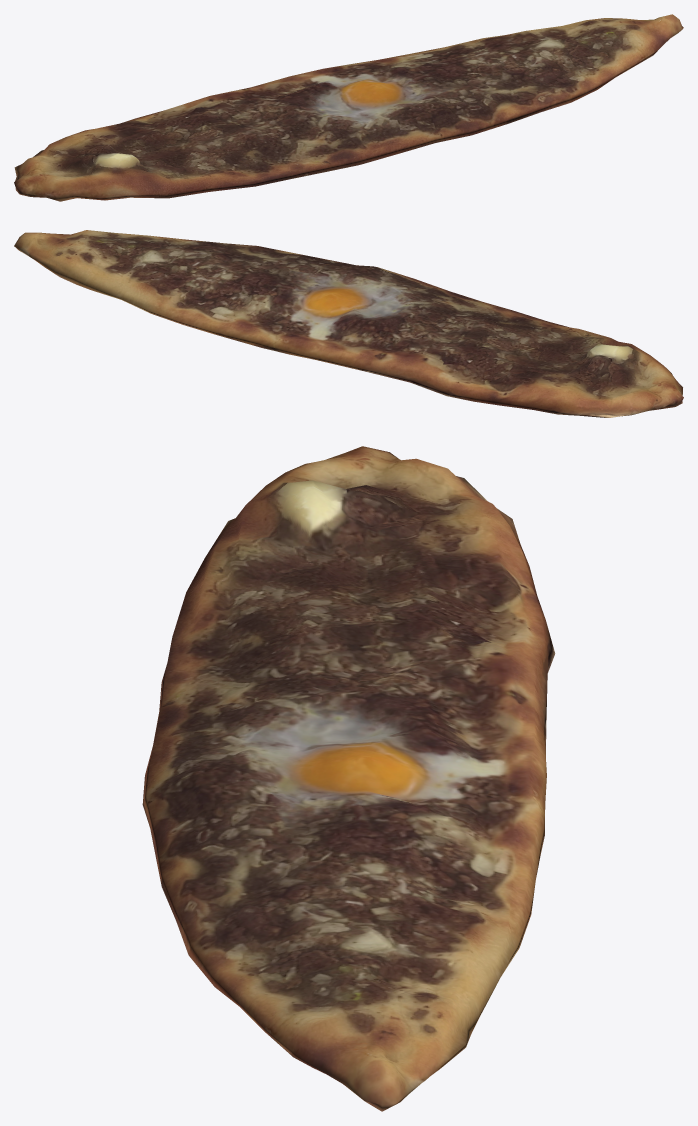
The model's file is pide_turkish_pizza_kymal (1).glb.
3 views of the same model, one above another, from view 1: azimuth 30°, elevation 25°; view 2: azimuth 150°, elevation 25°; view 3: azimuth 270°, elevation 25° (orthographic). The views are drawn at different scales.
Parts seen in each view (by area): view 1: Object_2; view 2: Object_2; view 3: Object_2.
Boxes of the visible parts, x1=… form: Object_2: x1=14, y1=14, x2=683, y2=201; Object_2: x1=14, y1=230, x2=683, y2=417; Object_2: x1=142, y1=446, x2=555, y2=1111.
Size of the model in its own units: 34.67 by 1.6 by 9.32.
Materials: 1 (1 with a texture image).
